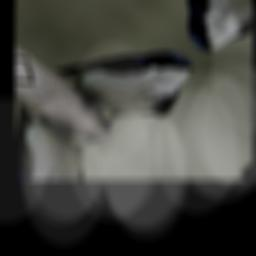Swallow: (40, 8, 210, 150)
